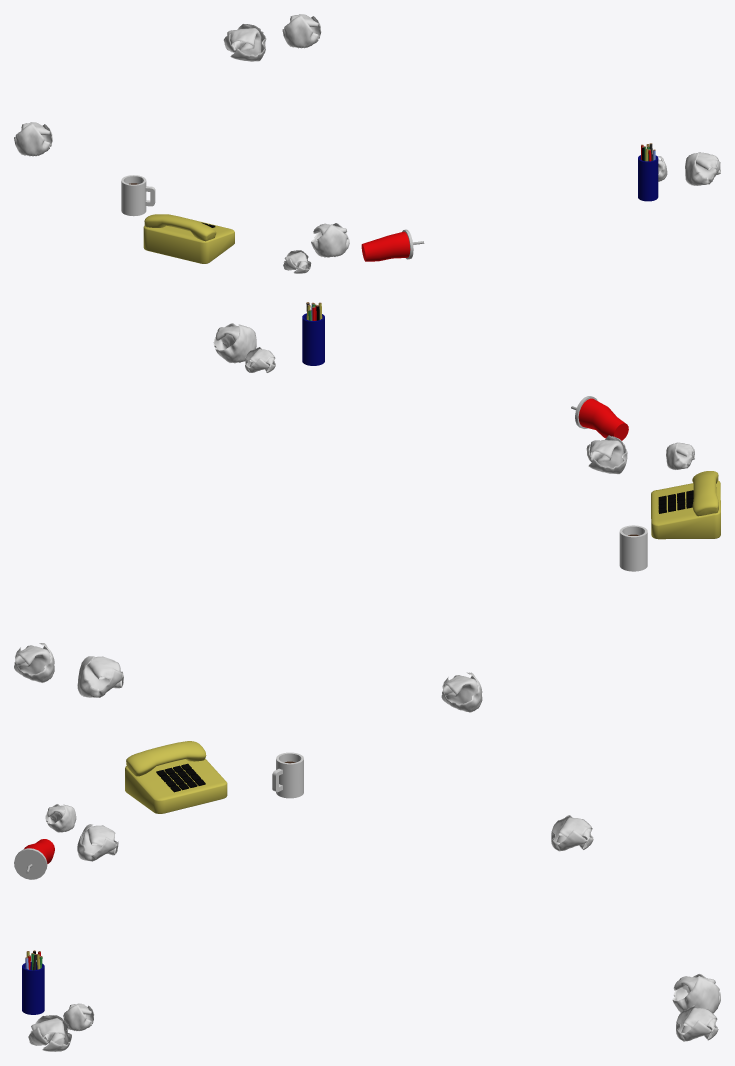
3 renders of one model, top to bottom at view 1: azimuth 30°, elevation 25°; view 2: azimuth 150°, elevation 25°; view 3: azimuth 270°, elevation 25°, orthographic. The views are drawn at different scales.
Visible parts, largest first — view 1: Telefon Base, Becher, Papier.007, Kaffee, Papier.004, Papier, Papier.006, Papier.001, Telefonhörer, Stiftehalter, Papier.005; view 2: Telefon Base, Papier.007, Becher, Papier.001, Kaffee, Papier.004, Papier, Papier.006, Stiftehalter, Telefonhörer, Papier.005; view 3: Telefon Base, Telefonhörer, Papier.007, Kaffee, Papier.001, Papier, Becher, Papier.004, Papier.006, Stiftehalter, Papier.005, Papier.008.
Part boxes in pixels (box(x1,y1,x2,y2)): Telefon Base: box(143, 219, 234, 263); Becher: box(361, 229, 424, 261); Papier.007: box(223, 24, 266, 61); Kaffee: box(121, 175, 155, 216); Papier.004: box(311, 223, 349, 257); Papier: box(14, 122, 52, 156); Papier.006: box(282, 14, 321, 48); Papier.001: box(685, 152, 720, 185); Telefonhörer: box(144, 214, 216, 241); Stiftehalter: box(638, 154, 658, 201); Papier.005: box(283, 250, 311, 273); Telefon Base: box(651, 480, 720, 539); Papier.007: box(77, 656, 123, 697); Becher: box(571, 396, 628, 440); Papier.001: box(213, 323, 256, 363); Kaffee: box(619, 525, 647, 571); Papier.004: box(586, 435, 627, 474); Papier: box(441, 672, 482, 712); Papier.006: box(14, 643, 54, 682); Stiftehalter: box(302, 313, 324, 365); Telefonhörer: box(692, 471, 718, 516); Papier.005: box(666, 442, 694, 469); Telefon Base: box(125, 758, 227, 813); Telefonhörer: box(126, 741, 206, 776); Papier.007: box(672, 973, 720, 1013); Kaffee: box(272, 752, 303, 798); Papier.001: box(28, 1015, 71, 1051); Papier: box(551, 815, 593, 851); Becher: box(14, 839, 54, 879); Papier.004: box(77, 824, 118, 861); Papier.006: box(676, 1005, 718, 1041); Stiftehalter: box(22, 961, 44, 1014); Papier.005: box(45, 804, 76, 832); Papier.008: box(63, 1003, 94, 1031).
Size of the model in its own units: 267 by 52.8 by 287.
